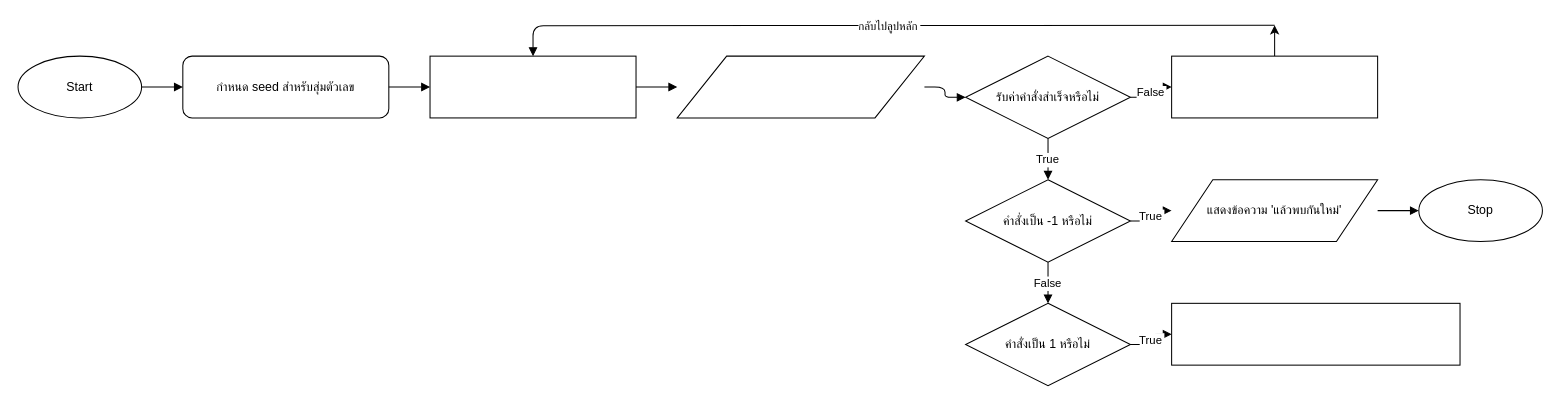
Some shapes in this 1560 by 404 pixel diagram are drawn without their labels. The shapes that lost their labels are listed below. From the top down, each one's centre as x and y in pixels, then its label:
the point at 532,86: เริ่มลูปหลักของโปรแกรม
the point at 800,86: รับคำสั่งจากผู้ใช้ (1=เล่น, -1=ออก)
the point at 1274,86: ล้าง buffer และแจ้งเตือน
the point at 1315,333: กำหนดค่าเริ่มต้น score, low, high และสุ่ม secret
